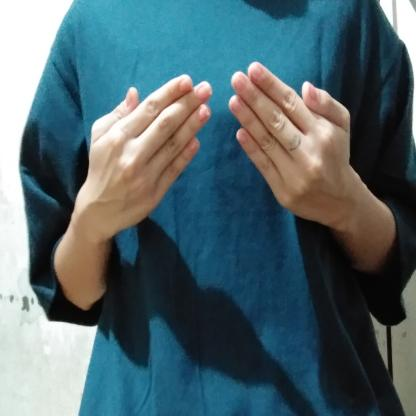night: (74, 54, 388, 258)
